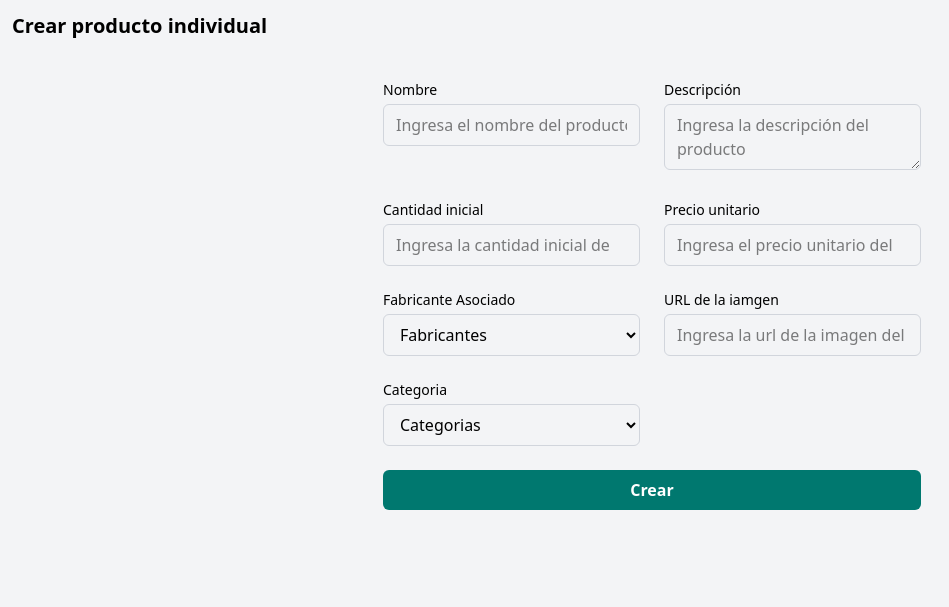
Scenario: Componente CrearProducto › debería mostrar errores de validación al enviar el formulario vacío
Click the button "Crear" at (652,490), box [383, 470, 921, 510]
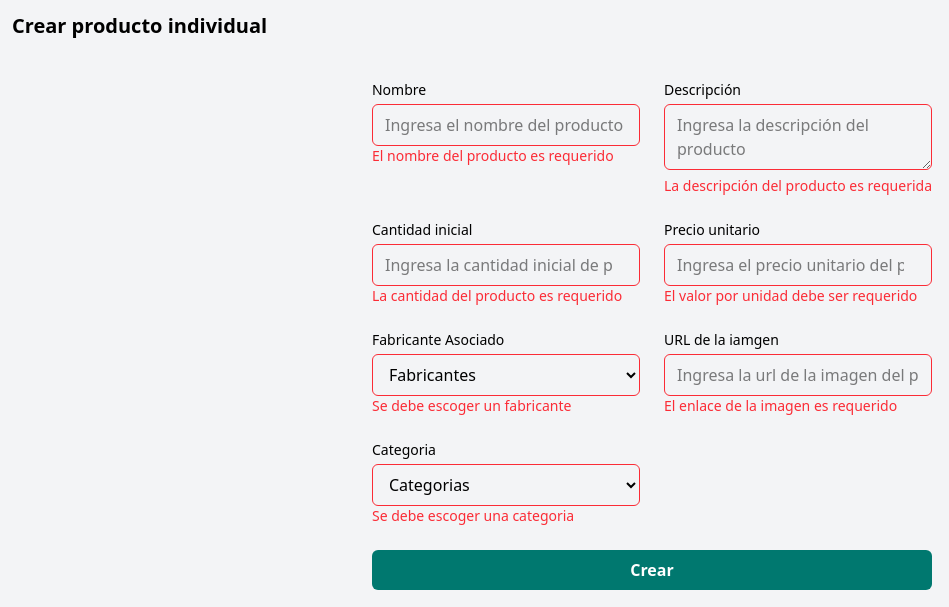
Now the text "El nombre del producto es requerido" is shown, box [372, 146, 640, 166]
Now the text "La descripción del producto es requerida" is shown, box [664, 176, 932, 196]
Now the text "La cantidad del producto es requerido" is shown, box [372, 286, 640, 306]
